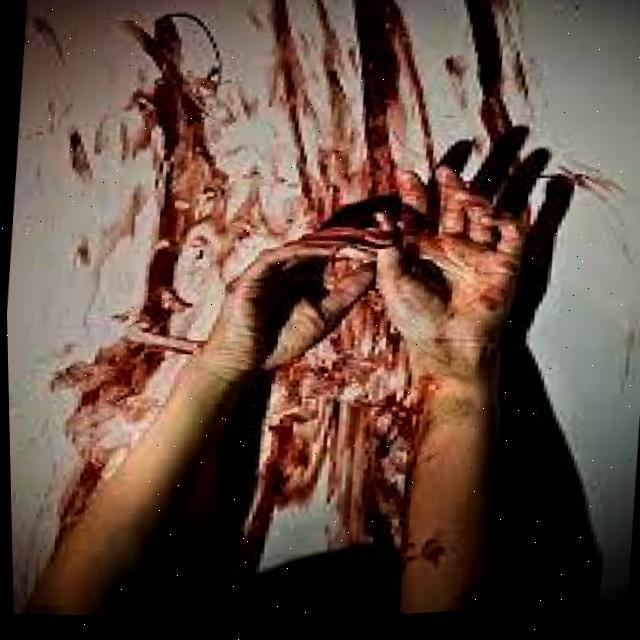knife: (124, 17, 220, 231), (344, 395, 411, 548), (270, 2, 313, 204), (51, 336, 163, 412), (54, 459, 110, 555), (135, 233, 185, 329), (350, 105, 402, 194), (263, 414, 312, 508), (353, 296, 401, 361), (311, 334, 354, 391), (243, 500, 281, 563), (271, 367, 308, 406), (476, 102, 511, 139), (68, 130, 93, 178), (419, 534, 452, 568), (322, 396, 345, 443)
